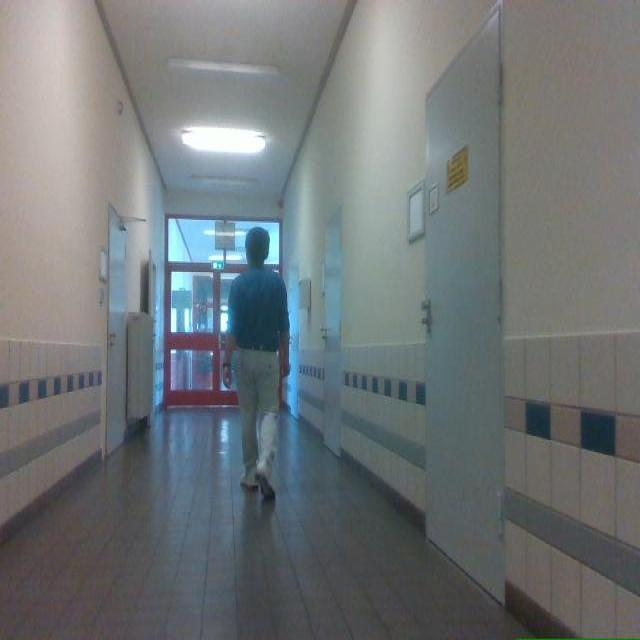humans: (223, 227, 289, 499)
